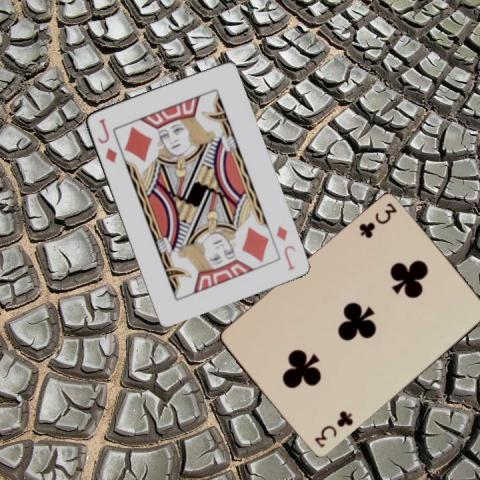3c: (311, 408, 355, 450), (355, 200, 399, 240)
Jd: (94, 114, 119, 164), (272, 223, 296, 271)
